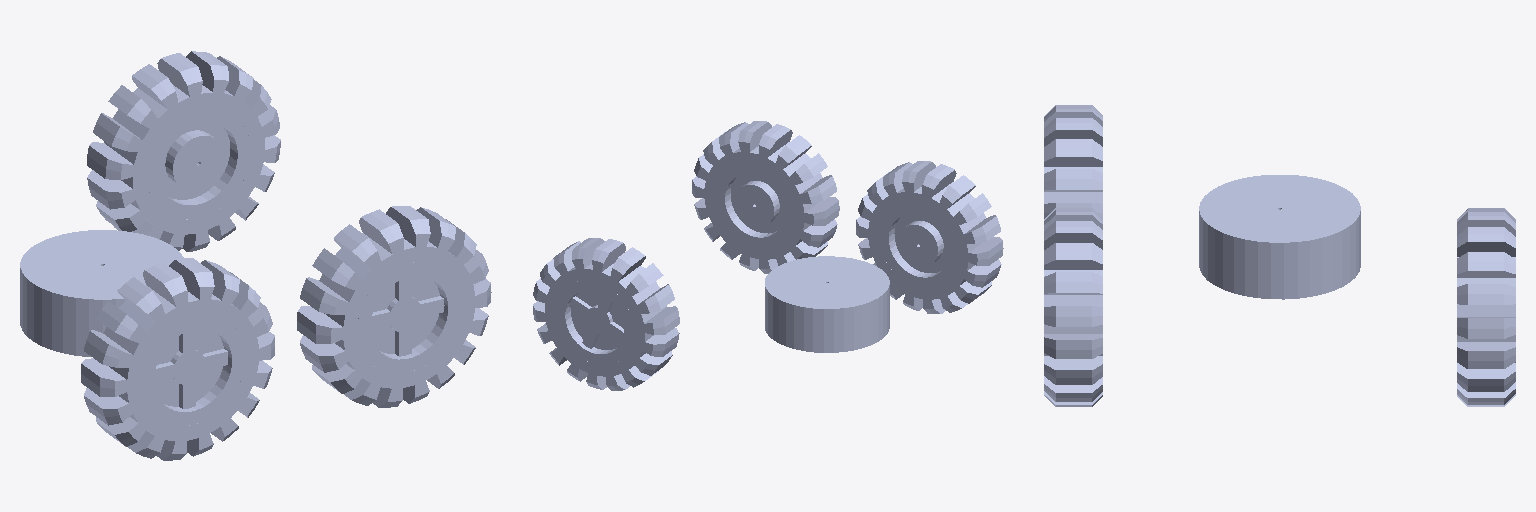
URDF robot description (finalassemblya):
<?xml version="1.0" encoding="utf-8"?>
<!-- This URDF was automatically created by SolidWorks to URDF Exporter! Originally created by [author] ([email redacted]) 
     Commit Version: 1.6.0-1-g15f4949  Build Version: 1.6.7594.29634
     For more information, please see http://wiki.ros.org/sw_urdf_exporter -->
<robot
  name="finalassemblya">
  <link
    name="base_link">
    <inertial>
      <origin
        xyz="-0.0163088049904633 0.00261010883641098 0.0762443527255097"
        rpy="0 0 0" />
      <mass
        value="4.09200979800817" />
      <inertia
        ixx="0.0376183769050628"
        ixy="-5.70247759833753E-05"
        ixz="-0.0015059015433038"
        iyy="0.0375623611723881"
        iyz="7.83750367463489E-05"
        izz="0.0301842792756295" />
    </inertial>
    <visual>
      <origin
        xyz="0 0 0"
        rpy="0 0 0" />
      <geometry>
        <mesh
          filename="package://multi_robot/meshes/base_link.STL" />
      </geometry>
      <material
        name="">
        <color
          rgba="0.792156862745098 0.819607843137255 0.933333333333333 1" />
      </material>
    </visual>
    <collision>
      <origin
        xyz="0 0 0"
        rpy="0 0 0" />
      <geometry>
        <mesh
          filename="package://multi_robot/meshes/base_link.STL" />
      </geometry>
    </collision>
  </link>
  <link
    name="frontleftlink">
    <inertial>
      <origin
        xyz="-2.9143E-15 -0.015279 1.027E-15"
        rpy="0 0 0" />
      <mass
        value="0.40269" />
      <inertia
        ixx="0.00046246"
        ixy="2.0438E-20"
        ixz="-8.5382E-18"
        iyy="0.00082874"
        iyz="-1.2843E-20"
        izz="0.00046246" />
    </inertial>
    <visual>
      <origin
        xyz="0 0 0"
        rpy="0 0 0" />
      <geometry>
        <mesh
          filename="package://multi_robot/meshes/frontleftlink.STL" />
      </geometry>
      <material
        name="">
        <color
          rgba="0.79216 0.81961 0.93333 1" />
      </material>
    </visual>
    <collision>
      <origin
        xyz="0 0 0"
        rpy="0 0 0" />
      <geometry>
        <mesh
          filename="package://multi_robot/meshes/frontleftlink.STL" />
      </geometry>
    </collision>
  </link>
  <joint
    name="frontleftjoint"
    type="continuous">
    <origin
      xyz="0.063212 0.15653 -0.04"
      rpy="0 0 0" />
    <parent
      link="base_link" />
    <child
      link="frontleftlink" />
    <axis
      xyz="0 1 0" />
    <limit
      effort="1"
      velocity="1" />
  </joint>
  <link
    name="backleftlink">
    <inertial>
      <origin
        xyz="-2.9421E-15 -0.015279 1.0408E-15"
        rpy="0 0 0" />
      <mass
        value="0.40269" />
      <inertia
        ixx="0.00046246"
        ixy="-1.6824E-20"
        ixz="-8.3075E-18"
        iyy="0.00082874"
        iyz="-6.7316E-20"
        izz="0.00046246" />
    </inertial>
    <visual>
      <origin
        xyz="0 0 0"
        rpy="0 0 0" />
      <geometry>
        <mesh
          filename="package://multi_robot/meshes/backleftlink.STL" />
      </geometry>
      <material
        name="">
        <color
          rgba="0.79216 0.81961 0.93333 1" />
      </material>
    </visual>
    <collision>
      <origin
        xyz="0 0 0"
        rpy="0 0 0" />
      <geometry>
        <mesh
          filename="package://multi_robot/meshes/backleftlink.STL" />
      </geometry>
    </collision>
  </link>
  <joint
    name="backleftjoint"
    type="continuous">
    <origin
      xyz="-0.10279 0.15653 -0.04"
      rpy="0 0 0" />
    <parent
      link="base_link" />
    <child
      link="backleftlink" />
    <axis
      xyz="0 1 0" />
    <limit
      effort="1"
      velocity="1" />
  </joint>
  <link
    name="backrightlink">
    <inertial>
      <origin
        xyz="2.1094E-15 0.015279 -2.3176E-15"
        rpy="0 0 0" />
      <mass
        value="0.40269" />
      <inertia
        ixx="0.00046246"
        ixy="1.3769E-22"
        ixz="8.9074E-19"
        iyy="0.00082874"
        iyz="-1.1533E-19"
        izz="0.00046246" />
    </inertial>
    <visual>
      <origin
        xyz="0 0 0"
        rpy="0 0 0" />
      <geometry>
        <mesh
          filename="package://multi_robot/meshes/backrightlink.STL" />
      </geometry>
      <material
        name="">
        <color
          rgba="0.79216 0.81961 0.93333 1" />
      </material>
    </visual>
    <collision>
      <origin
        xyz="0 0 0"
        rpy="0 0 0" />
      <geometry>
        <mesh
          filename="package://multi_robot/meshes/backrightlink.STL" />
      </geometry>
    </collision>
  </link>
  <joint
    name="backrightjoint"
    type="continuous">
    <origin
      xyz="-0.10279 -0.15347 -0.04"
      rpy="0 0 0" />
    <parent
      link="base_link" />
    <child
      link="backrightlink" />
    <axis
      xyz="0 -1 0" />
    <limit
      effort="1"
      velocity="1" />
  </joint>
  <link
    name="frontrightlink">
    <inertial>
      <origin
        xyz="2.1094E-15 0.015279 -2.3176E-15"
        rpy="0 0 0" />
      <mass
        value="0.40269" />
      <inertia
        ixx="0.00046246"
        ixy="2.1404E-20"
        ixz="8.9934E-19"
        iyy="0.00082874"
        iyz="-6.7806E-20"
        izz="0.00046246" />
    </inertial>
    <visual>
      <origin
        xyz="0 0 0"
        rpy="0 0 0" />
      <geometry>
        <mesh
          filename="package://multi_robot/meshes/frontrightlink.STL" />
      </geometry>
      <material
        name="">
        <color
          rgba="0.79216 0.81961 0.93333 1" />
      </material>
    </visual>
    <collision>
      <origin
        xyz="0 0 0"
        rpy="0 0 0" />
      <geometry>
        <mesh
          filename="package://multi_robot/meshes/frontrightlink.STL" />
      </geometry>
    </collision>
  </link>
  <joint
    name="frontrightjoint"
    type="continuous">
    <origin
      xyz="0.063212 -0.15347 -0.04"
      rpy="0 0 0" />
    <parent
      link="base_link" />
    <child
      link="frontrightlink" />
    <axis
      xyz="0 -1 0" />
    <limit
      effort="1"
      velocity="1" />
  </joint>
  <link
    name="moplink">
    <inertial>
      <origin
        xyz="0 0 0.021249"
        rpy="0 0 0" />
      <mass
        value="0.40361" />
      <inertia
        ixx="0.0003662"
        ixy="4.0749E-20"
        ixz="-9.6371E-21"
        iyy="0.0003662"
        iyz="-9.6607E-21"
        izz="0.00061088" />
    </inertial>
    <visual>
      <origin
        xyz="0 0 0"
        rpy="0 0 0" />
      <geometry>
        <mesh
          filename="package://multi_robot/meshes/moplink.STL" />
      </geometry>
      <material
        name="">
        <color
          rgba="0.79216 0.81961 0.93333 1" />
      </material>
    </visual>
    <collision>
      <origin
        xyz="0 0 0"
        rpy="0 0 0" />
      <geometry>
        <mesh
          filename="package://multi_robot/meshes/moplink.STL" />
      </geometry>
    </collision>
  </link>
  <joint
    name="mopjoint"
    type="continuous">
    <origin
      xyz="-0.079788 0.0015322 -0.075"
      rpy="0 0 0" />
    <parent
      link="base_link" />
    <child
      link="moplink" />
    <axis
      xyz="0 0 -1" />
    <limit
      effort="0"
      velocity="10" />
  </joint>
    <gazebo>
    <plugin name="object_controller" filename="libgazebo_ros_planar_move.so">
      <commandTopic>cmd_vel</commandTopic>
      <odometryTopic>odom</odometryTopic>
      <odometryFrame>odom</odometryFrame>
      <odometryRate>20.0</odometryRate>
      <robotBaseFrame>base_link</robotBaseFrame>
    </plugin>
  </gazebo>
</robot>

--- Render facts (derived) ---
Views: 3 orthographic renders of the robot side by side, from view 1: azimuth 30°, elevation 25°; view 2: azimuth 150°, elevation 25°; view 3: azimuth 270°, elevation 25°.
Model finalassemblya with 6 links and 5 joints (5 continuous), rooted at base_link, posed all joints at 0.
Visible links, largest first — view 1: backrightlink, frontrightlink, frontleftlink, moplink; view 2: frontleftlink, backrightlink, frontrightlink, moplink; view 3: moplink, frontrightlink, frontleftlink, backrightlink.
Boxes of the visible links, <box> form: backrightlink: <box>81,258,274,460</box>; frontrightlink: <box>297,206,491,407</box>; frontleftlink: <box>87,51,280,251</box>; moplink: <box>20,230,183,356</box>; frontleftlink: <box>533,238,679,390</box>; backrightlink: <box>856,161,1003,313</box>; frontrightlink: <box>692,121,839,273</box>; moplink: <box>765,256,889,352</box>; moplink: <box>1199,175,1360,299</box>; frontrightlink: <box>1044,208,1102,406</box>; frontleftlink: <box>1457,208,1515,406</box>; backrightlink: <box>1044,105,1102,218</box>.
Size in the robot's own frame: 0.301 by 0.32 by 0.1348 metres.
Meshes: 6 distinct files referenced, 4 mesh visuals loaded (4 binary STL); not drawn: 2 (reference not matched to a file when rendering).